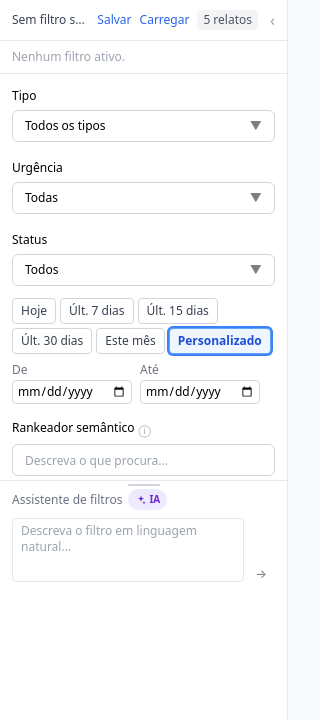
Test case: FilterPanel › Load dropdown shows "Carregar" button that toggles dropdown
Click the button "Carregar" at (164, 20), box [140, 12, 189, 28]
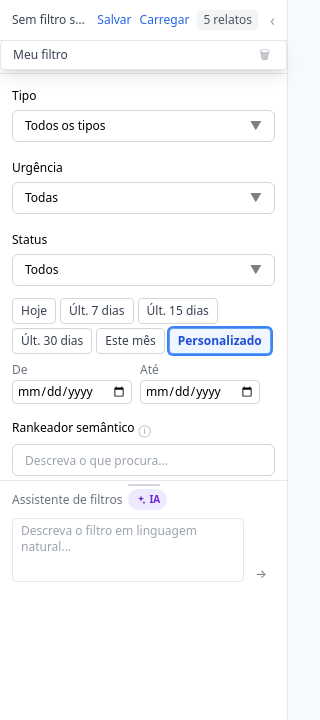
Now the button "Meu filtro" is shown, box [13, 47, 251, 63]
